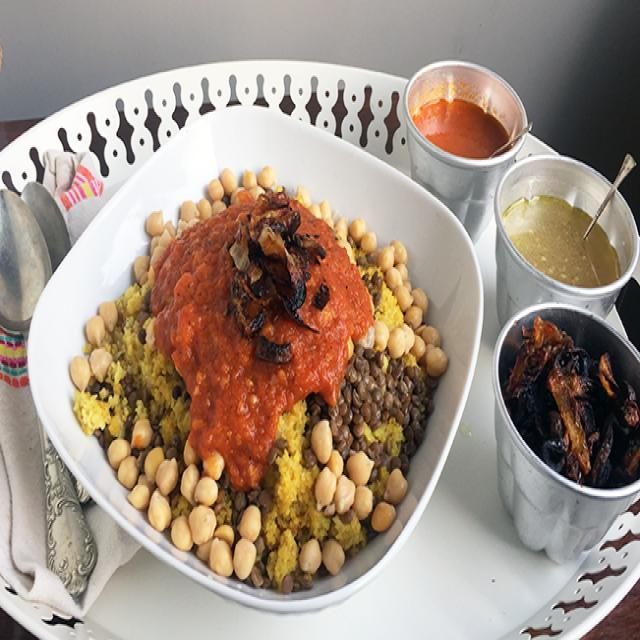koshary: (64, 162, 454, 585)
